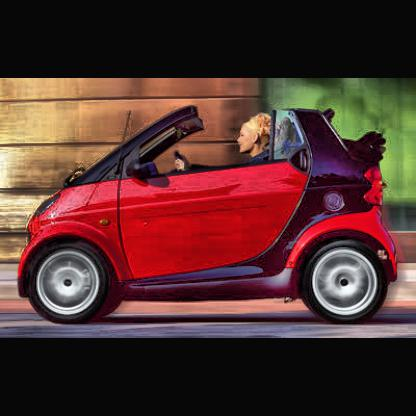smart fortwo Convertible 2012: (21, 105, 402, 330)
